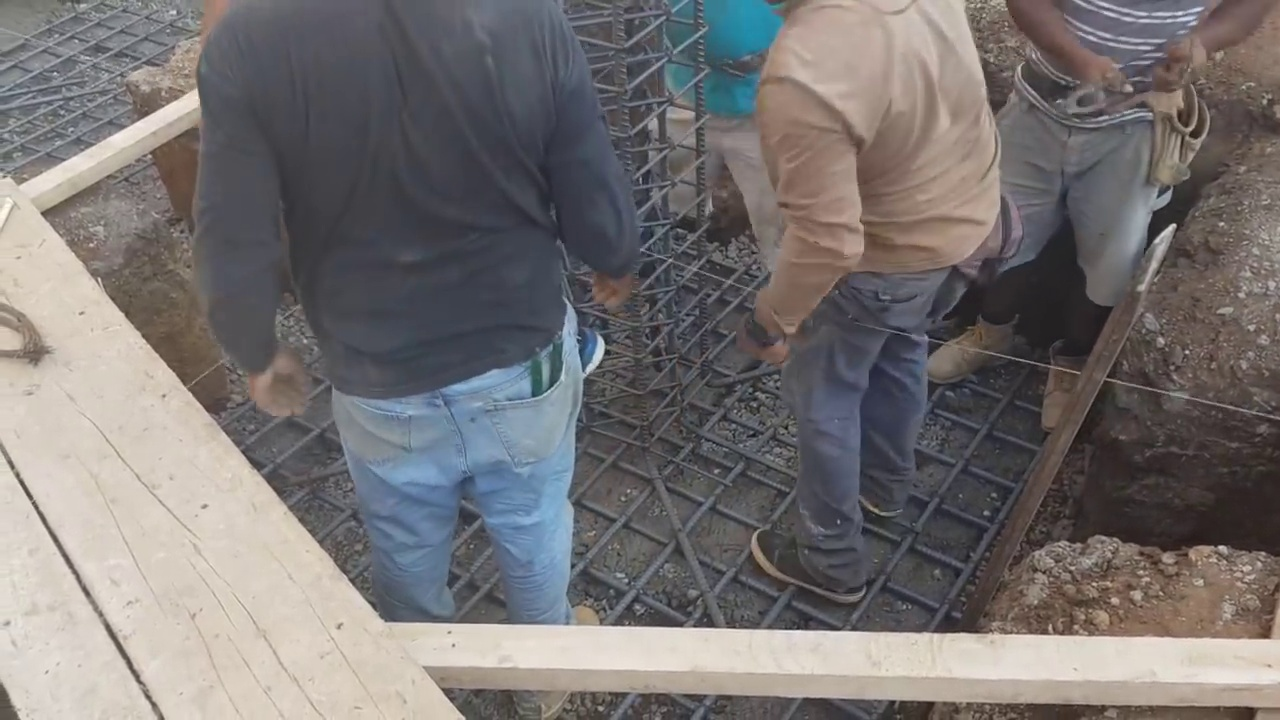person: (190, 0, 642, 633), (738, 0, 1011, 604), (918, 0, 1280, 436), (643, 5, 784, 275)
